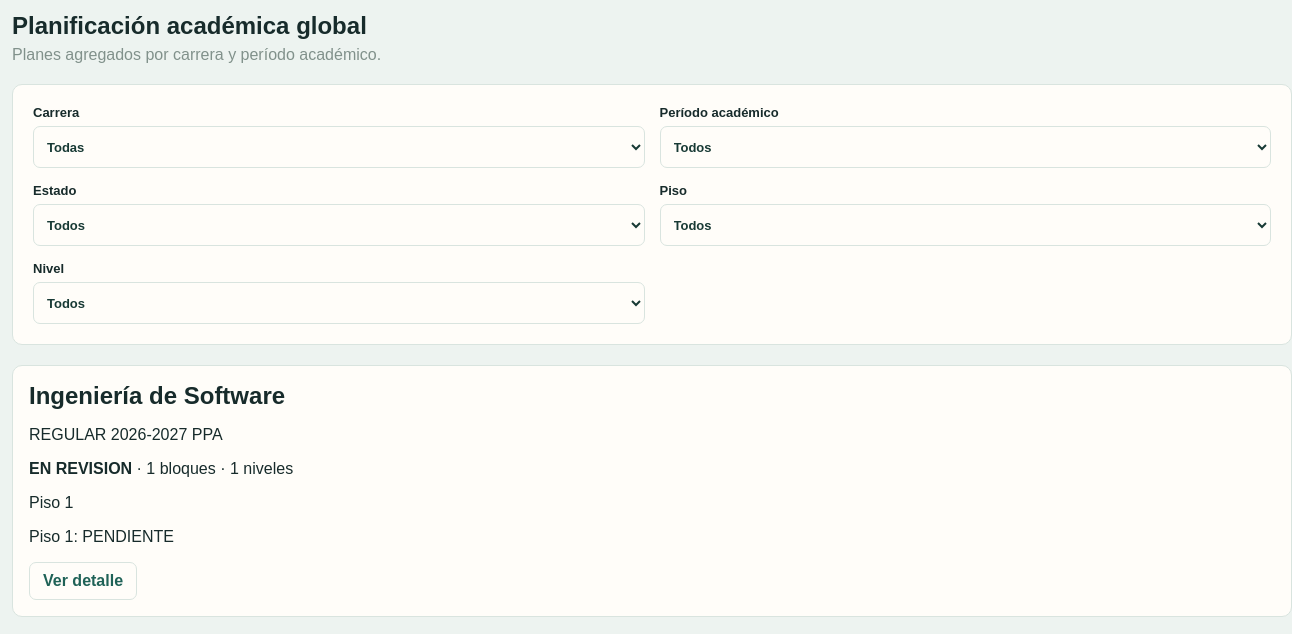
Test: AdministradorPlanificacionGlobal › filtra sin convertir ausencia en error
Step 1. Select "APROBADA" in the dropdown labelled "Estado" → (339, 225), box [33,204,644,246]
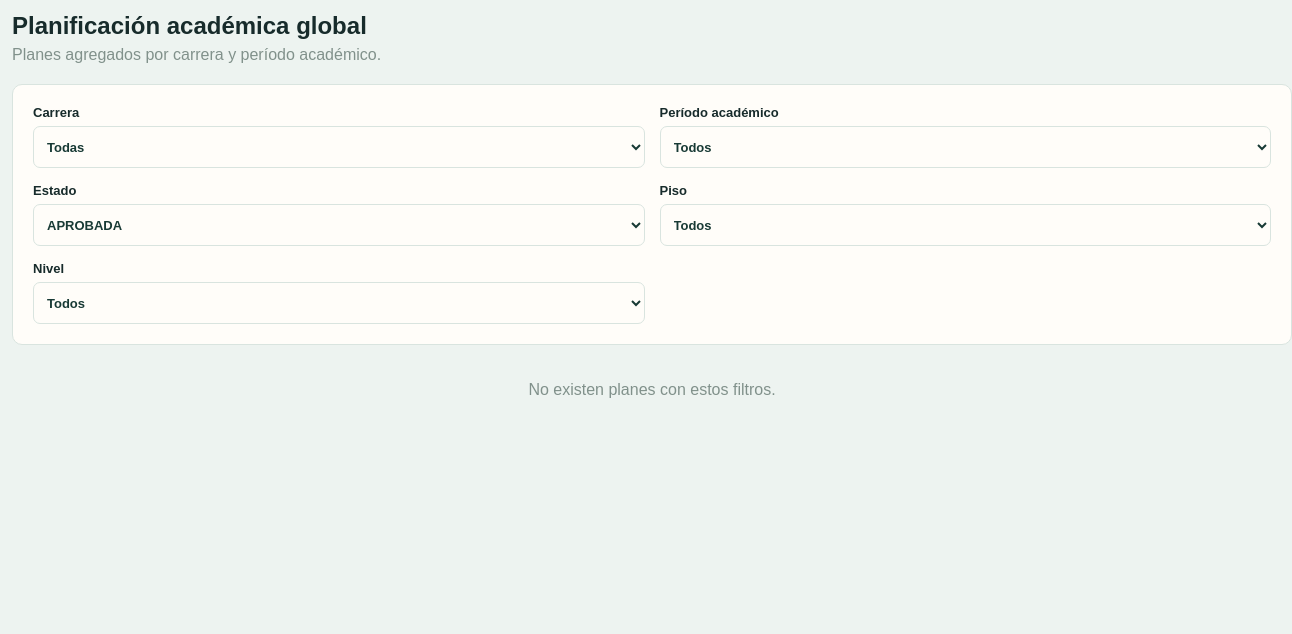
Expected: the text "No existen planes con estos filtros." is shown, [528,381,776,398]
